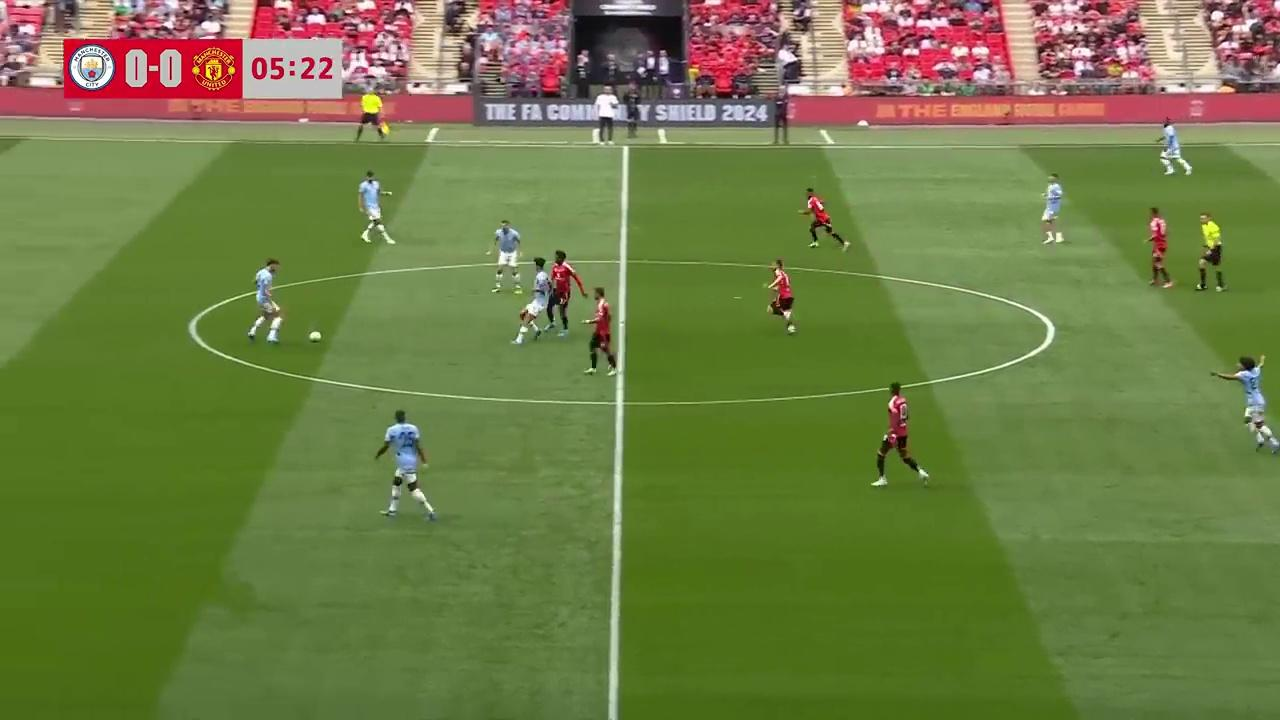ball: (307, 327, 322, 343)
player: (374, 408, 437, 523), (1214, 353, 1279, 452), (870, 383, 931, 487), (545, 251, 587, 337), (247, 257, 284, 344), (511, 261, 548, 346), (582, 287, 616, 376), (802, 187, 848, 250), (357, 169, 395, 244), (488, 219, 523, 293), (763, 258, 797, 334), (1144, 206, 1173, 288), (1040, 173, 1064, 244), (1161, 122, 1192, 175)
referee: (1195, 212, 1226, 292), (354, 88, 388, 142)
